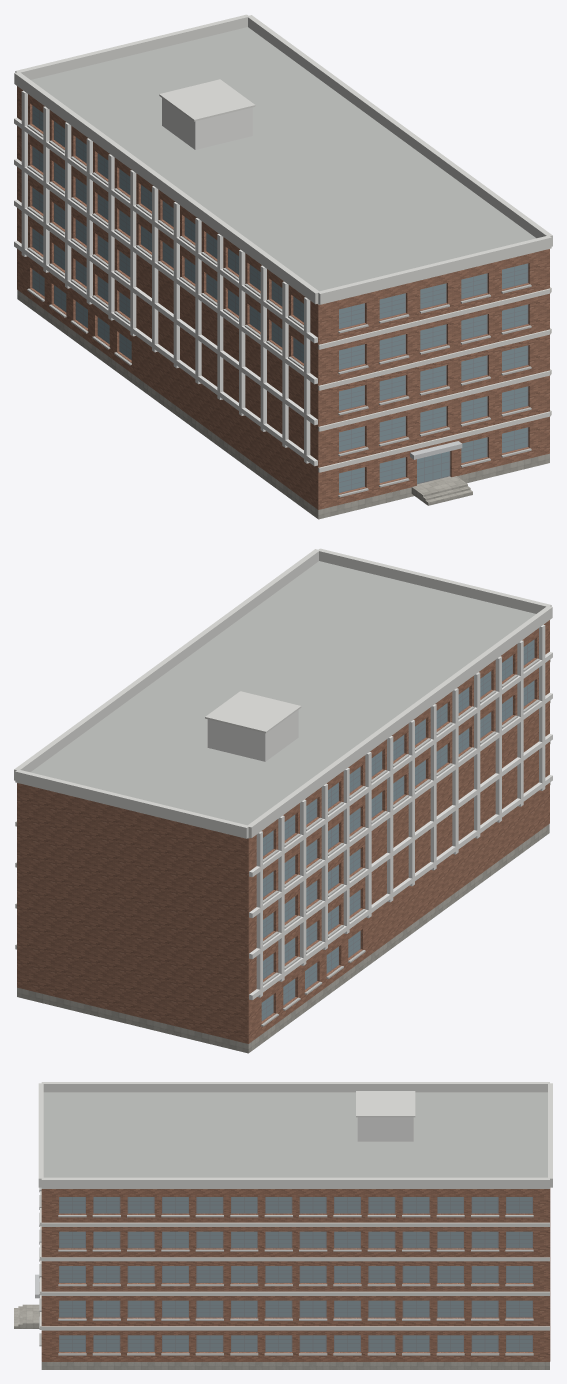
The picture shows the model from 3 angles, top to bottom: view 1: azimuth 30°, elevation 25°; view 2: azimuth 150°, elevation 25°; view 3: azimuth 270°, elevation 25°; orthographic projection. The views are drawn at different scales.
Parts seen in each view (by area): view 1: east-wing__brick, east-wing__roof, east-wing__white, east-wing__glass, east-wing__cap, east-wing__frame, east-wing__band, east-wing__sill, east-wing__stone, east-wing__stair-front; view 2: east-wing__brick, east-wing__roof, east-wing__white, east-wing__cap, east-wing__glass, east-wing__stone, east-wing__frame, east-wing__sill; view 3: east-wing__brick, east-wing__roof, east-wing__sideglass, east-wing__cap, east-wing__frame, east-wing__band, east-wing__sill, east-wing__stone, east-wing__white.
Boxes of the visible parts, x1,y1,x2,y2 form: east-wing__brick: (17, 86, 549, 509); east-wing__roof: (31, 27, 535, 304); east-wing__white: (14, 90, 317, 466); east-wing__glass: (33, 106, 527, 492); east-wing__cap: (14, 14, 552, 304); east-wing__frame: (32, 105, 528, 492); east-wing__band: (318, 287, 551, 472); east-wing__sill: (27, 124, 531, 497); east-wing__stone: (17, 290, 549, 519); east-wing__stair-front: (420, 482, 472, 505); east-wing__brick: (17, 620, 549, 1043); east-wing__roof: (31, 561, 535, 838); east-wing__white: (207, 624, 552, 1000); east-wing__cap: (14, 548, 552, 838); east-wing__glass: (261, 640, 533, 1020); east-wing__stone: (17, 824, 549, 1053); east-wing__frame: (261, 639, 534, 1021); east-wing__sill: (261, 658, 539, 1026); east-wing__brick: (41, 1188, 550, 1361); east-wing__roof: (43, 1092, 547, 1177); east-wing__sideglass: (59, 1197, 531, 1351); east-wing__cap: (38, 1082, 552, 1188); east-wing__frame: (59, 1197, 532, 1351); east-wing__band: (40, 1191, 549, 1330); east-wing__sill: (39, 1187, 533, 1355); east-wing__stone: (41, 1362, 549, 1369); east-wing__white: (357, 1117, 413, 1141).
Bounding box in the file's own units: 20.67 × 20.58 × 48.03.
12 materials, 2 textured.
